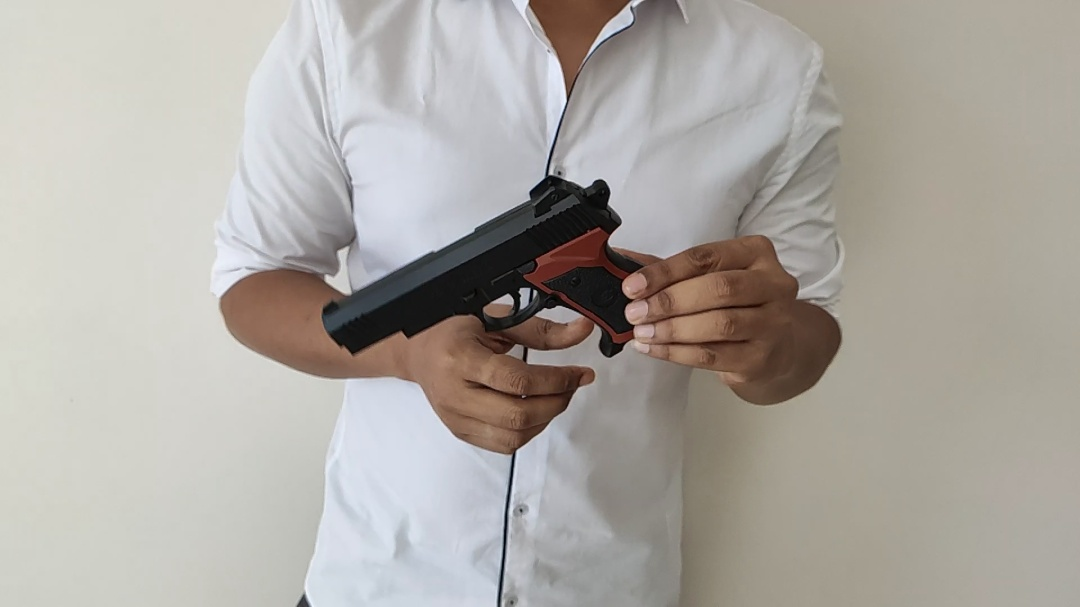gun: (319, 172, 644, 359)
